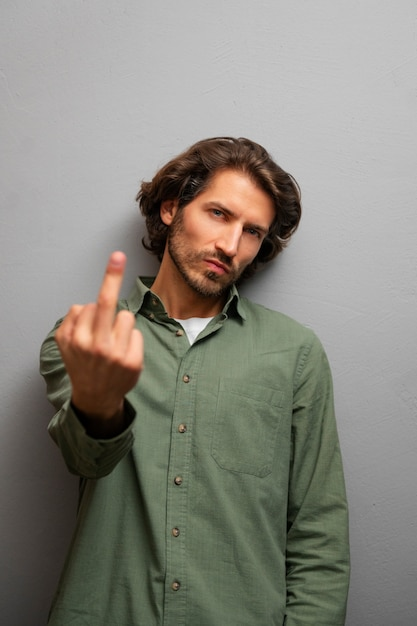insulting_gesture: (53, 246, 146, 410)
